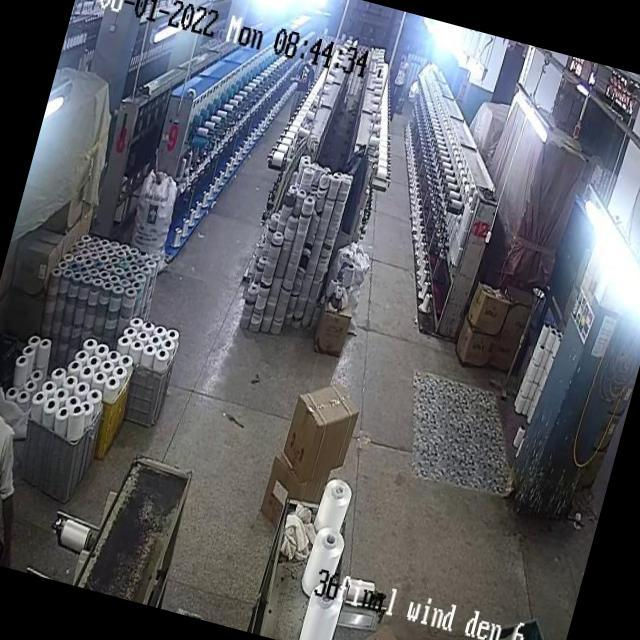person: (0, 354, 48, 565), (384, 49, 414, 118), (291, 54, 316, 106)
